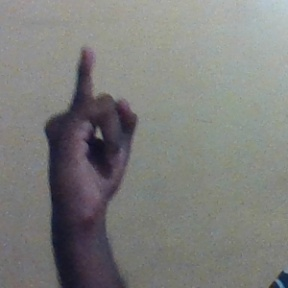I: (42, 48, 140, 218)
